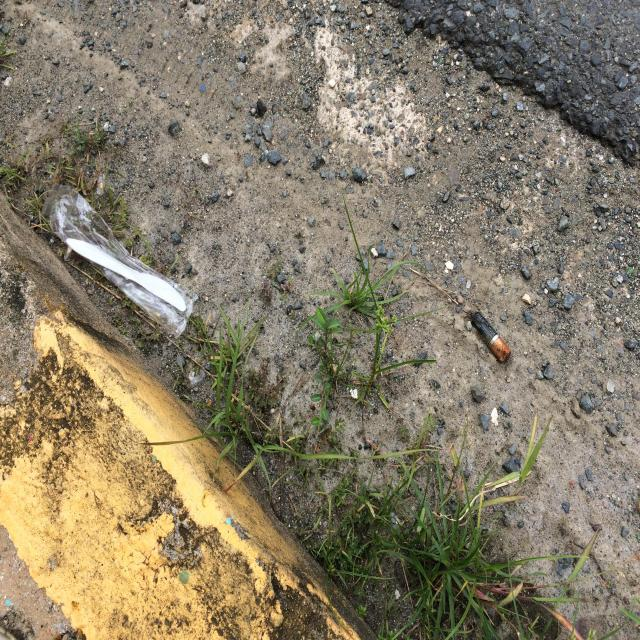litter: (50, 192, 191, 331)
